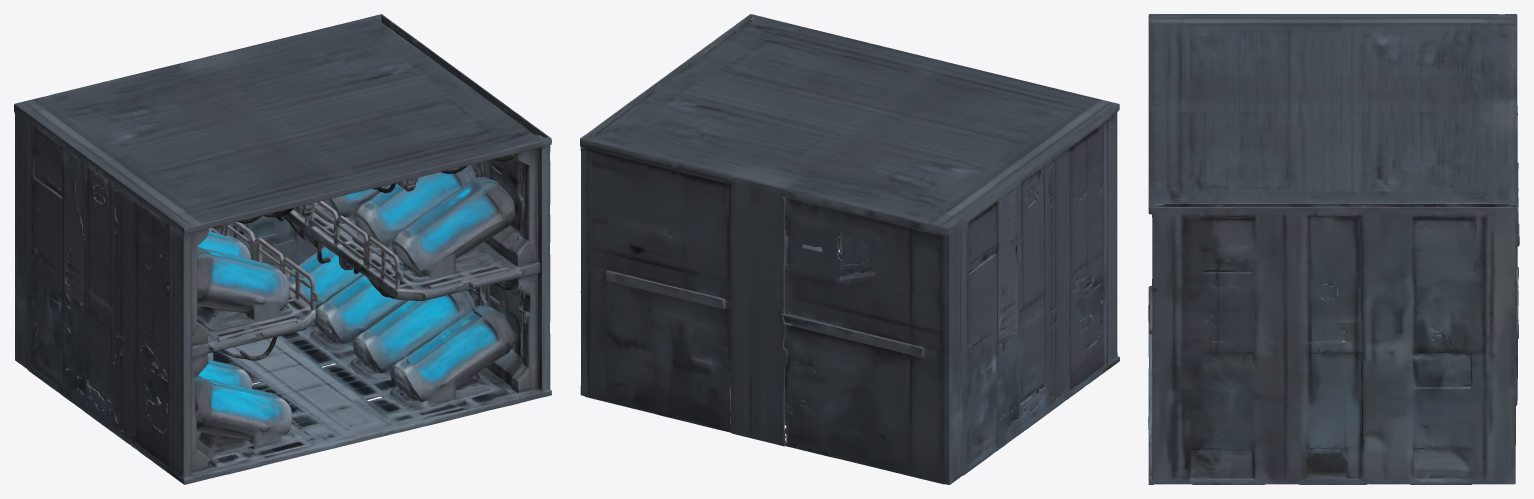
The model's file is place_preserve.glb.
The picture shows the model from 3 angles, left to right: view 1: azimuth 30°, elevation 25°; view 2: azimuth 150°, elevation 25°; view 3: azimuth 270°, elevation 25°; orthographic projection. The views are drawn at different scales.
Visible parts, largest first — view 1: world; view 2: world; view 3: world.
Part boxes in pixels (x1=…): world: x1=14, y1=14, x2=551, y2=484; world: x1=580, y1=14, x2=1119, y2=484; world: x1=1148, y1=14, x2=1519, y2=484.
Size of the model in its own units: 0.8 by 0.5354 by 0.6466.
1 material, 1 textured.
